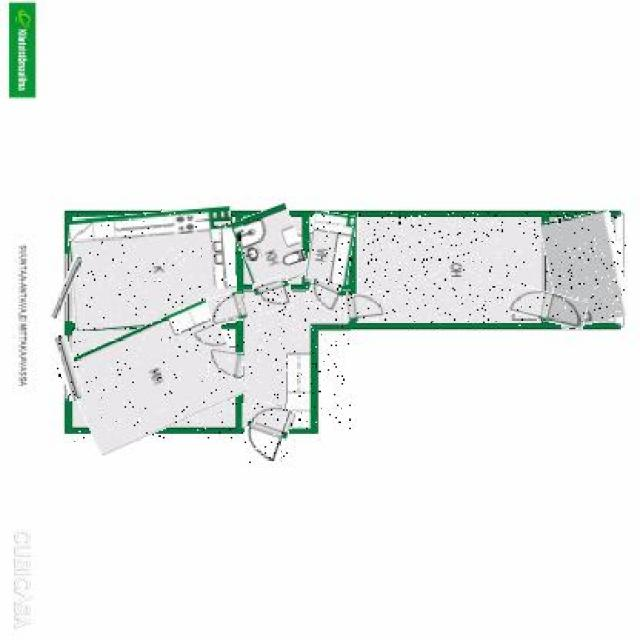door: (243, 403, 292, 463), (509, 289, 586, 326), (254, 278, 292, 312), (345, 292, 386, 322), (306, 282, 345, 312), (208, 294, 246, 324), (209, 351, 245, 378)
window: (57, 335, 80, 400), (57, 255, 77, 320)
zone: (69, 313, 242, 442), (357, 213, 540, 324), (69, 209, 237, 328), (243, 289, 351, 429), (546, 214, 626, 328), (237, 208, 305, 288), (306, 212, 354, 286)
